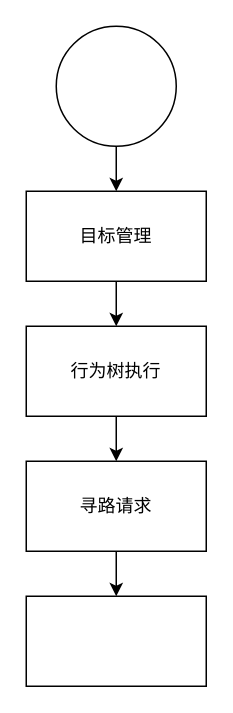
Image size: 233x713. Some labels were removed from this diagram. Here are the shapes that lost their labels. From the top down, the centre of each, then its label:
the point at 115,85: 感知检测
the point at 115,640: 路径跟随
